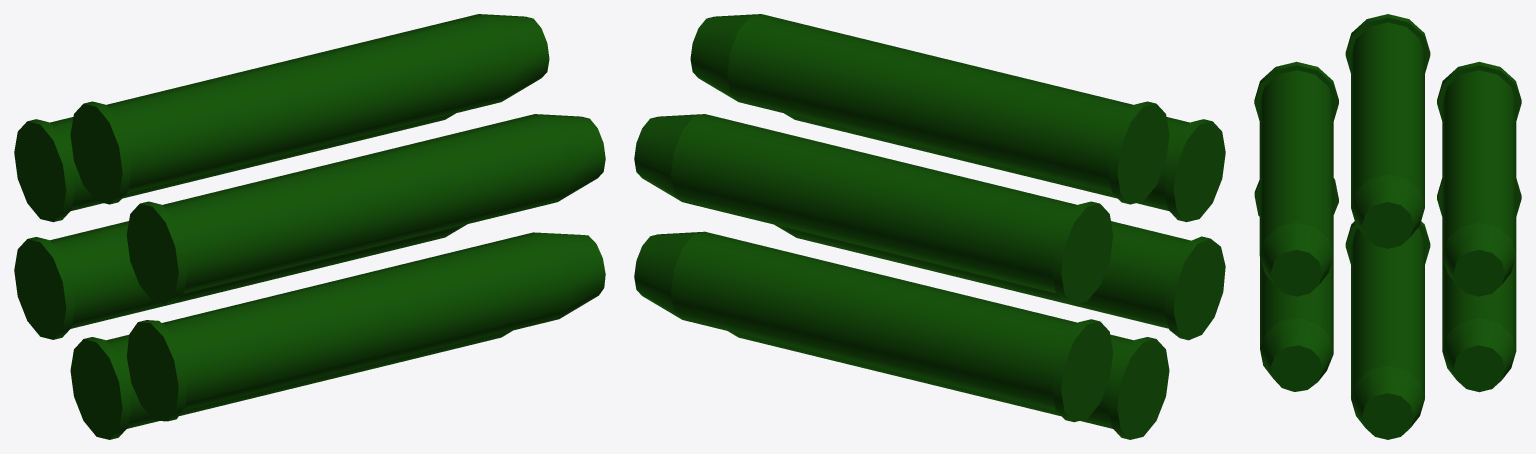
The model's file is RevolverBullets.fbx.
The picture shows the model from 3 angles, left to right: view 1: azimuth 30°, elevation 25°; view 2: azimuth 150°, elevation 25°; view 3: azimuth 270°, elevation 25°; orthographic projection. The views are drawn at different scales.
Parts seen in each view (by area): view 1: BulletsC; view 2: BulletsC; view 3: BulletsC.
Part boxes in pixels (x1,y1,x2,y2): BulletsC: [14, 14, 605, 439]; BulletsC: [634, 14, 1225, 439]; BulletsC: [1254, 14, 1521, 439].
Size of the model in its own units: 6.55 by 4.73 by 4.27.
